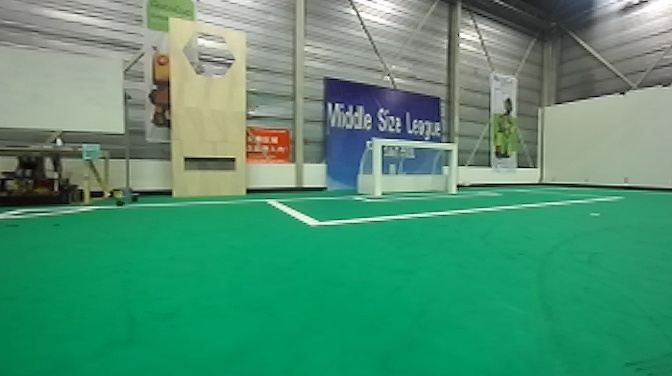ball: (455, 173, 471, 194)
goalpost: (368, 129, 385, 197), (440, 139, 459, 197)
